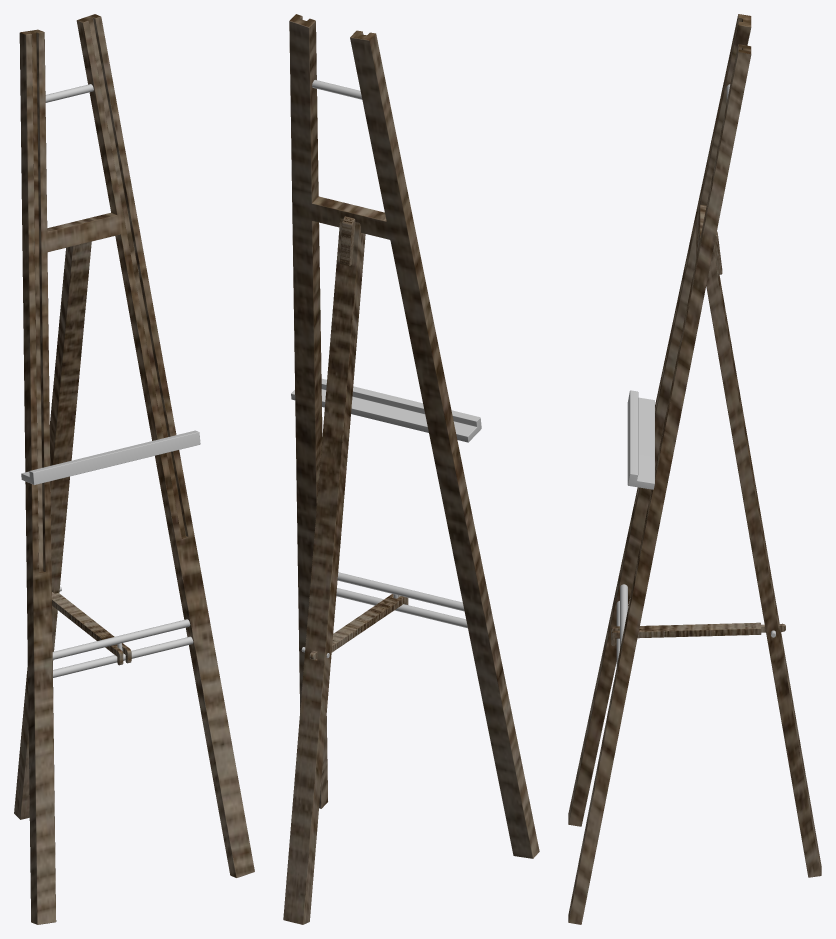
Rendered from stand1.fbx.
The picture shows the model from 3 angles, left to right: view 1: azimuth 30°, elevation 25°; view 2: azimuth 150°, elevation 25°; view 3: azimuth 270°, elevation 25°; orthographic projection. The views are drawn at different scales.
Visible parts, largest first — view 1: Cube.002; view 2: Cube.002; view 3: Cube.002.
Part boxes in pixels (x1,y1,x2,y2): Cube.002: (14, 14, 254, 924); Cube.002: (283, 14, 539, 924); Cube.002: (568, 14, 821, 924).
Size of the model in its own units: 57.56 by 206 by 56.31.
